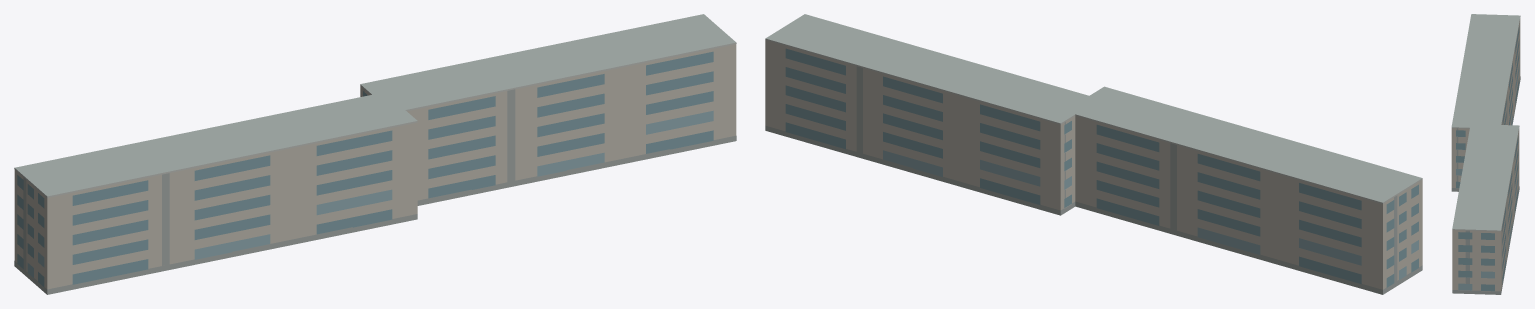
Rendered from residential-f859bb98-2261-4f5f-b573-e4aa96f6cdbd.glb.
The picture shows the model from 3 angles, left to right: view 1: azimuth 30°, elevation 25°; view 2: azimuth 150°, elevation 25°; view 3: azimuth 270°, elevation 25°; orthographic projection. The views are drawn at different scales.
Visible parts, largest first — view 1: residential-f859bb98-2261-4f5f-b573-e4aa96f6cdbd.tmp; view 2: residential-f859bb98-2261-4f5f-b573-e4aa96f6cdbd.tmp; view 3: residential-f859bb98-2261-4f5f-b573-e4aa96f6cdbd.tmp.
Part boxes in pixels (x1=…): residential-f859bb98-2261-4f5f-b573-e4aa96f6cdbd.tmp: x1=14, y1=14, x2=736, y2=294; residential-f859bb98-2261-4f5f-b573-e4aa96f6cdbd.tmp: x1=765, y1=14, x2=1422, y2=294; residential-f859bb98-2261-4f5f-b573-e4aa96f6cdbd.tmp: x1=1451, y1=14, x2=1520, y2=294.
Bounding box in the file's own units: 110 × 15.25 × 14.82.
